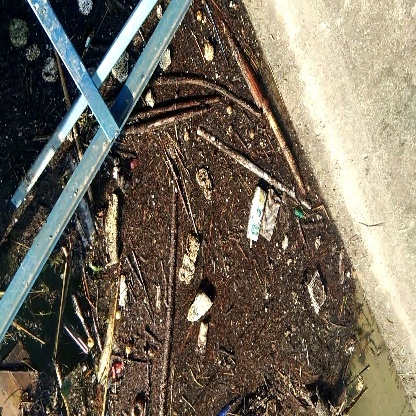branch: (196, 124, 290, 190)
